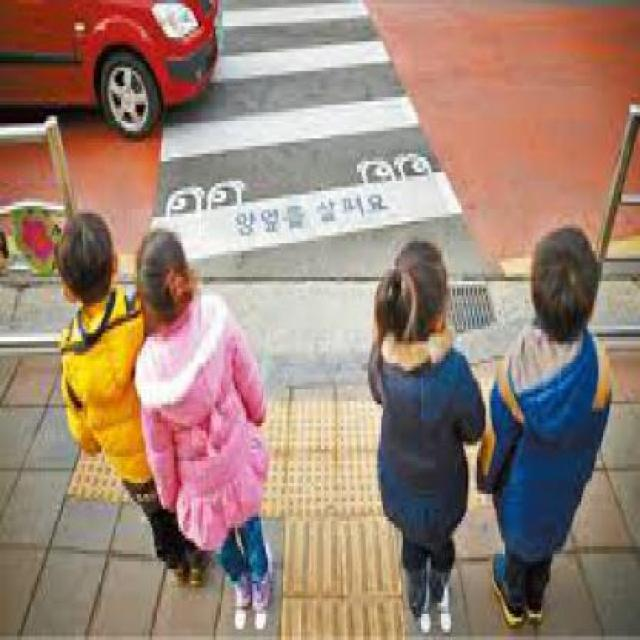Person: (137, 226, 280, 628), (57, 205, 203, 580), (486, 231, 620, 623), (377, 242, 481, 632)
